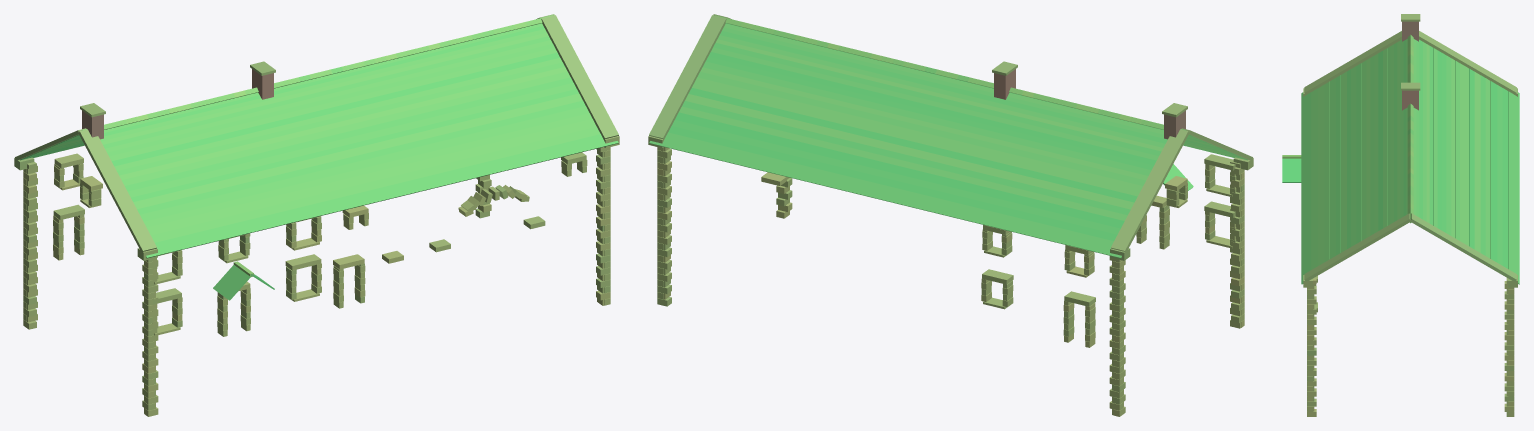
The model's file is SM_Bld_221_Stone.glb.
3 views of the same model, side by side, from view 1: azimuth 30°, elevation 25°; view 2: azimuth 150°, elevation 25°; view 3: azimuth 270°, elevation 25° (orthographic). The views are drawn at different scales.
Parts seen in each view (by area): view 1: SM_Bld_221_Stone; view 2: SM_Bld_221_Stone; view 3: SM_Bld_221_Stone.
Boxes of the visible parts, box(x1,y1,x2,y2) form: SM_Bld_221_Stone: box(14, 14, 619, 416); SM_Bld_221_Stone: box(648, 14, 1253, 416); SM_Bld_221_Stone: box(1282, 14, 1519, 416).
Bounding box in the file's own units: 24.21 × 12.66 × 12.63.
